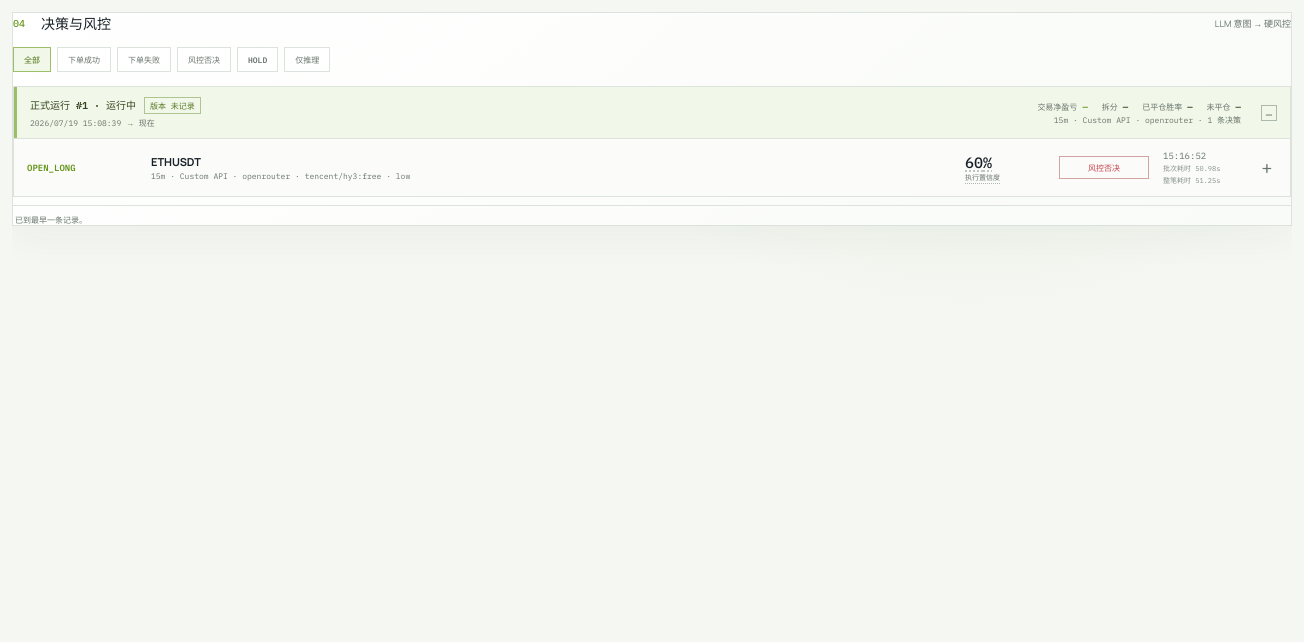
Test: DecisionPanel › shows the ratio calculated from the AI-returned prices when a decision is expanded
Click the button "OPEN_LONG" at (51, 168), box 14,139 -> 1290,196
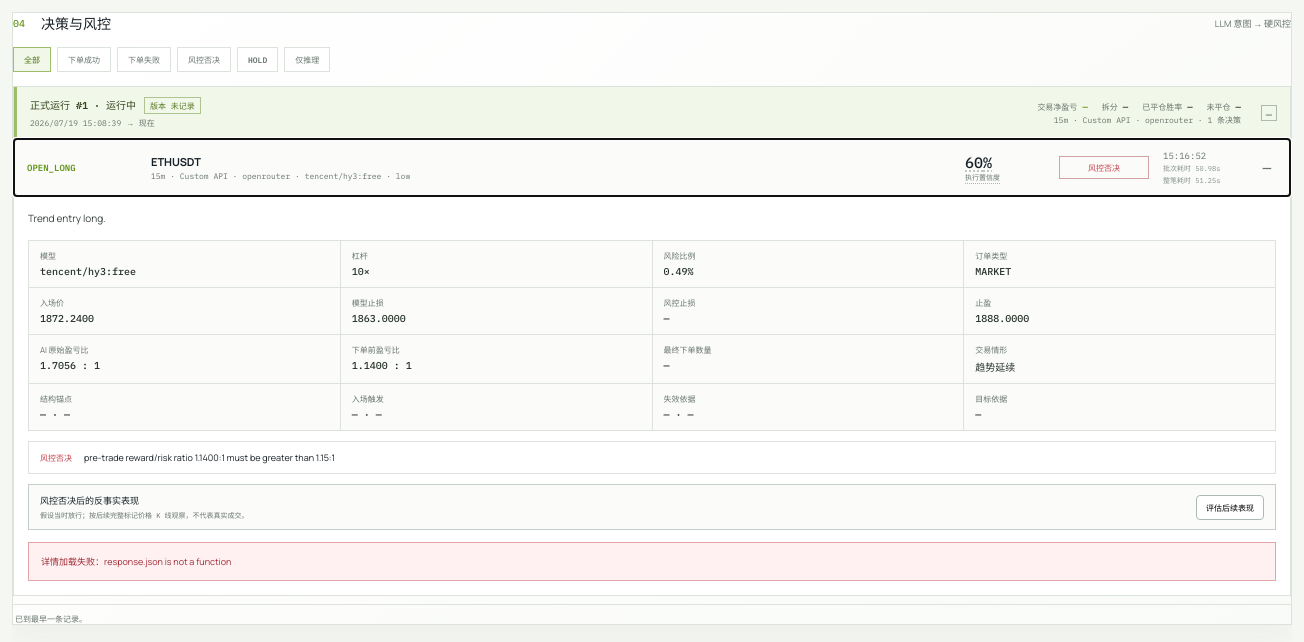
Expected: the text "AI 原始盈亏比" is shown, 40,344 -> 88,355
Expected: the text "1872.2400" is shown, 40,312 -> 94,325
Expected: the text "模型止损" is shown, 352,297 -> 384,308
